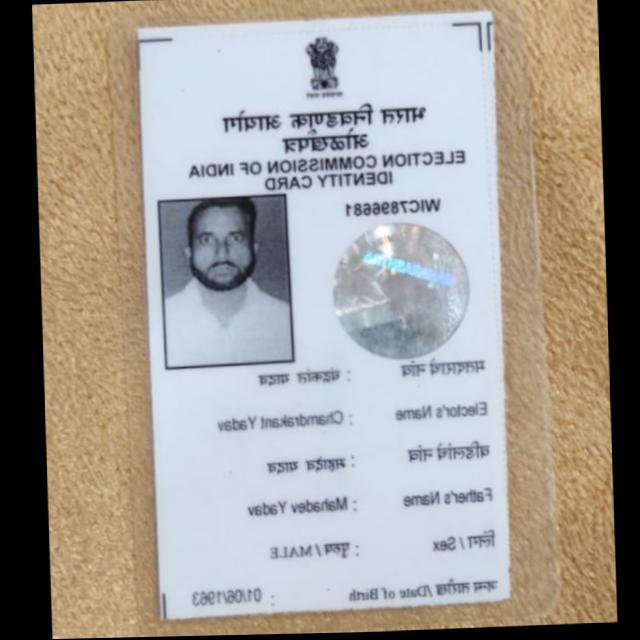voter_id: (123, 4, 527, 626)
